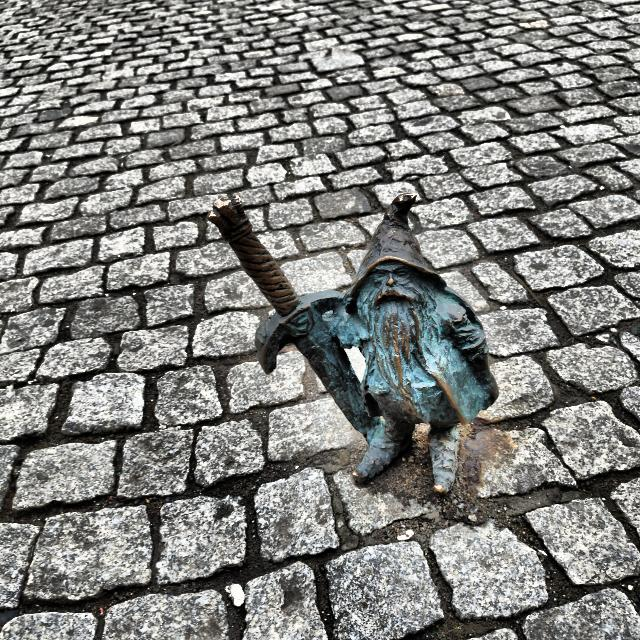Giermek_Grun-Waldek: (207, 194, 500, 497)
